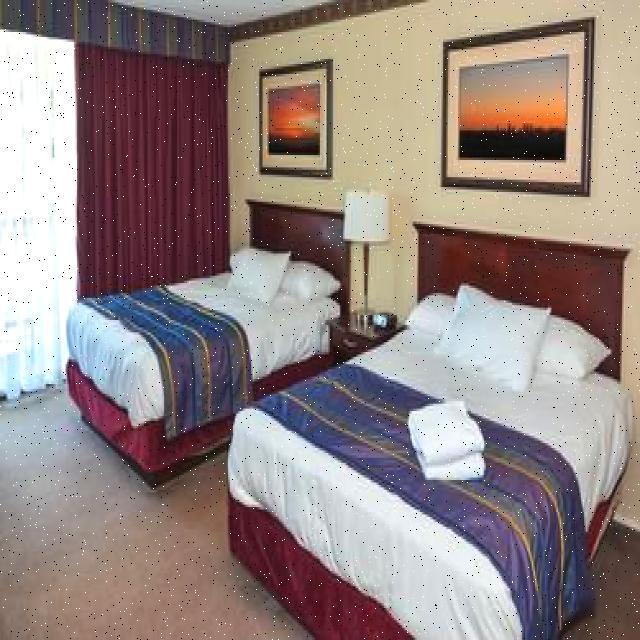bed: (229, 284, 640, 640), (65, 244, 334, 425)
